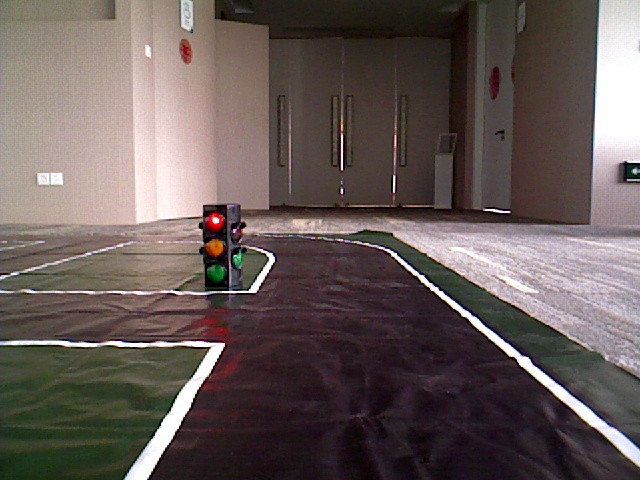red: (204, 205, 231, 284)
